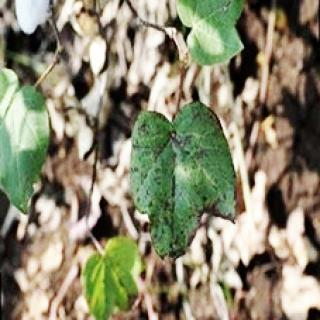leaf spot: (128, 98, 238, 252)
